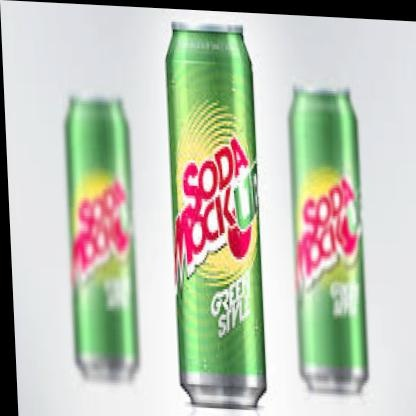trash: (167, 25, 265, 407), (290, 88, 367, 392), (66, 97, 137, 380)
